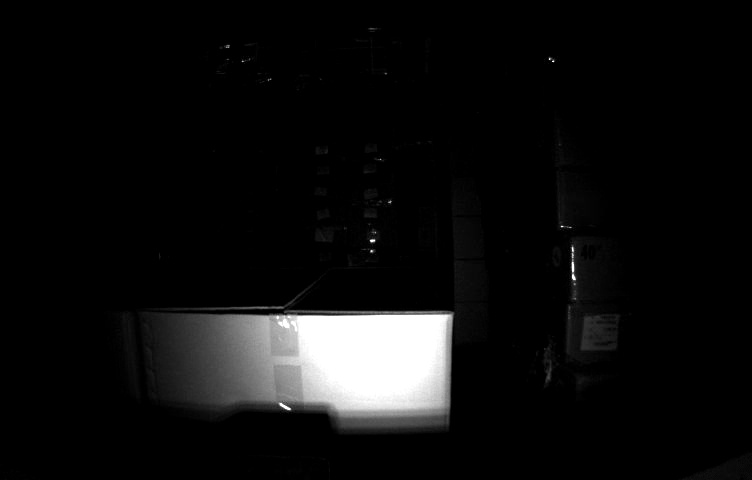True Barcode: (582, 312, 617, 351)
